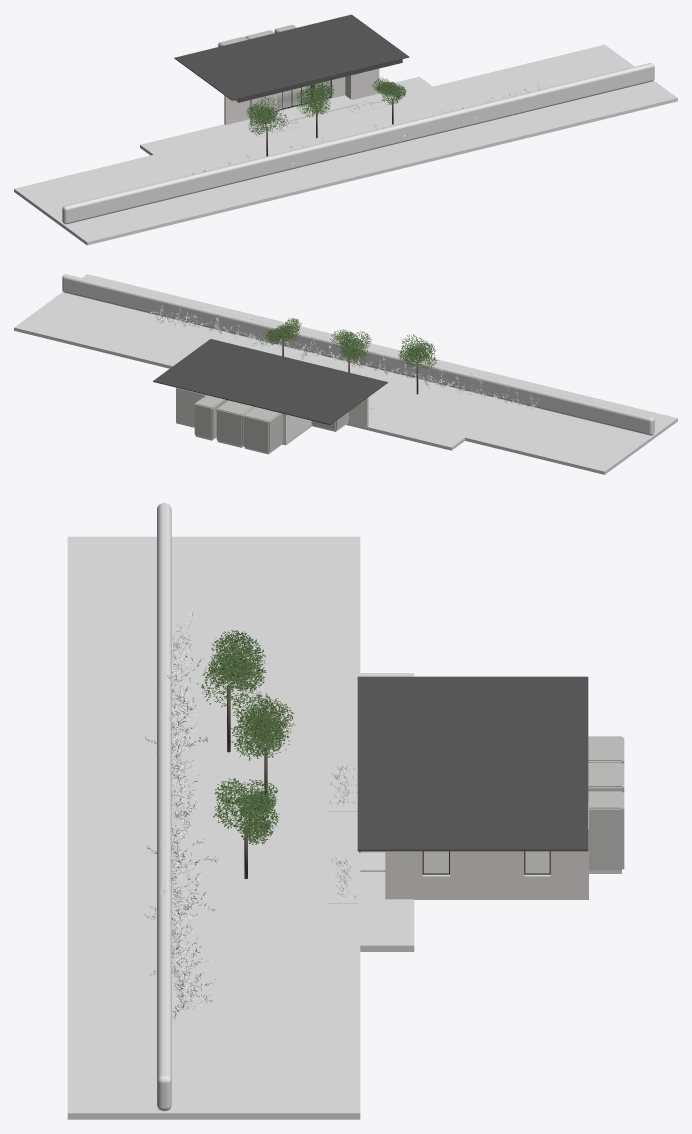
The model's file is ldk_2700.glb.
3 renders of one model, top to bottom at view 1: azimuth 30°, elevation 25°; view 2: azimuth 150°, elevation 25°; view 3: azimuth 270°, elevation 25°, orthographic. The views are drawn at different scales.
Parts seen in each view (by area): view 1: 芝生, 生垣, 屋根, 芝生_西庭, シンボルツリー3_葉, シンボルツリー1_葉, テラス_タイル, 外壁_東_子南, 鼻隠し, 芝生_東庭, 外壁_西, シンボルツリー2_葉 (+2 smaller); view 2: 芝生, 生垣, 屋根, 芝生_西庭, シンボルツリー1_葉, シンボルツリー3_葉, パントリー_奥壁, 洗面室_奥壁, 外壁_東_子北, シンボルツリー2_葉, 玄関ホール_奥壁, パントリー_側壁1 (+3 smaller); view 3: 芝生, 屋根, 生垣, 外壁_東_側面1, 芝生_東庭, シンボルツリー3_葉, シンボルツリー2_葉, シンボルツリー1_葉, 玄関ホール_側壁2, 外壁_東_側面2, 外壁_東_側面0, 植栽帯_西 (+1 smaller).
Part boxes in pixels (x1,y1,x2,y2): 芝生: (14, 44, 677, 245); 生垣: (62, 63, 654, 224); 屋根: (174, 14, 409, 100); 芝生_西庭: (140, 119, 281, 155); シンボルツリー3_葉: (246, 97, 288, 134); シンボルツリー1_葉: (295, 81, 334, 117); テラス_タイル: (277, 95, 357, 122); 外壁_東_子南: (351, 68, 379, 99); 鼻隠し: (238, 59, 402, 102); 芝生_東庭: (352, 76, 432, 104); 外壁_西: (225, 96, 250, 124); シンボルツリー2_葉: (371, 77, 406, 104); 芝生: (14, 274, 677, 474); 生垣: (62, 274, 654, 435); 屋根: (153, 339, 387, 424); 芝生_西庭: (346, 414, 465, 450); シンボルツリー1_葉: (330, 329, 371, 365); シンボルツリー3_葉: (398, 334, 437, 368); パントリー_奥壁: (244, 416, 268, 452); 洗面室_奥壁: (217, 409, 241, 445); 外壁_東_子北: (176, 388, 203, 427); シンボルツリー2_葉: (265, 318, 301, 344); 玄関ホール_奥壁: (195, 404, 212, 438); パントリー_側壁1: (268, 413, 283, 452); 芝生: (67, 536, 360, 1119); 屋根: (357, 676, 588, 851); 生垣: (157, 503, 171, 1111); 外壁_東_側面1: (450, 851, 524, 899); 芝生_東庭: (360, 872, 414, 951); シンボルツリー3_葉: (196, 630, 266, 706); シンボルツリー2_葉: (212, 778, 279, 844); シンボルツリー1_葉: (231, 689, 295, 760); 玄関ホール_側壁2: (589, 808, 621, 870); 外壁_東_側面2: (550, 851, 588, 899); 外壁_東_側面0: (386, 851, 422, 899); 植栽帯_西: (328, 767, 357, 811).
Bounding box in the file's own units: 55 × 5.55 × 22.45.
